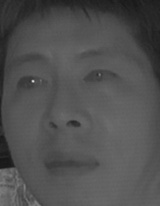eye: (80, 66, 120, 88), (11, 73, 50, 95)
mouth: (41, 143, 101, 182)
